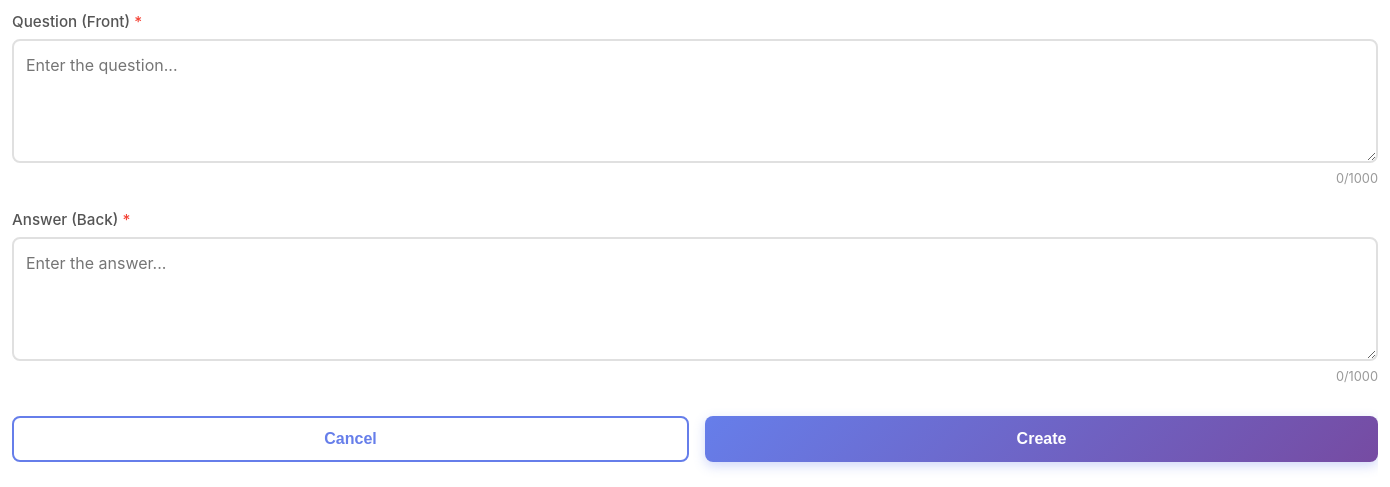
Test case: FlashcardForm › Cancel functionality › clears form when cancel is clicked
This screenshot has width=1390, height=487.
Type "Test" into the text box with test id "front-input" at (695, 101), box [12,39,1378,163]
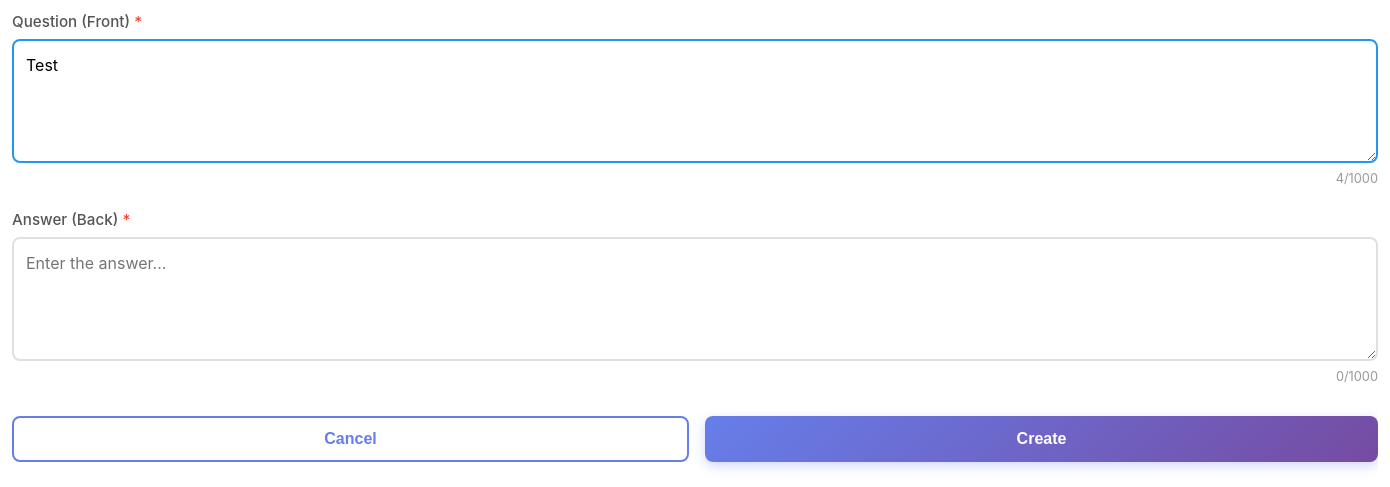
Type "Test" into the text box with test id "back-input" at (695, 299), box [12,237,1378,361]
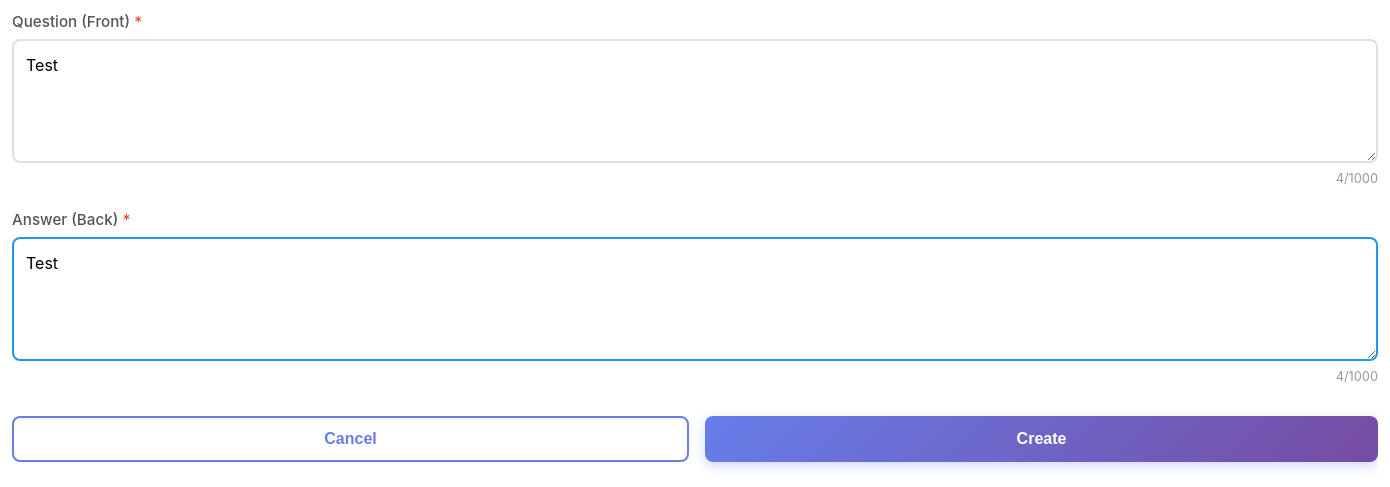
Click the button with test id "cancel-button" at (350, 439), box [12,416,689,462]
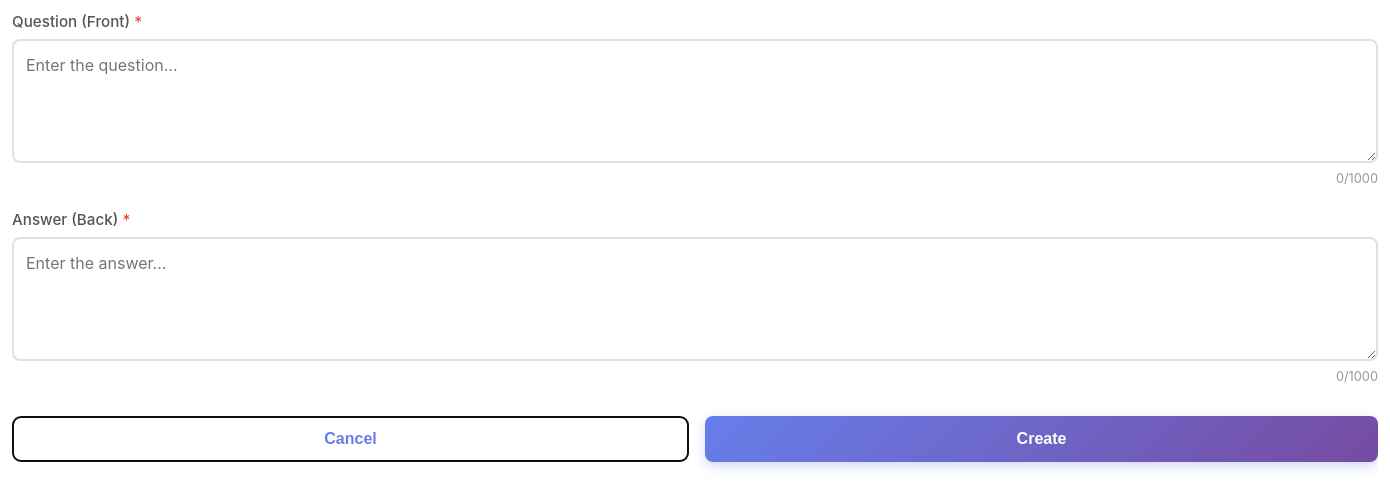
Now the text box with test id "front-input" is empty, box [12,39,1378,163]
Now the text box with test id "back-input" is empty, box [12,237,1378,361]
